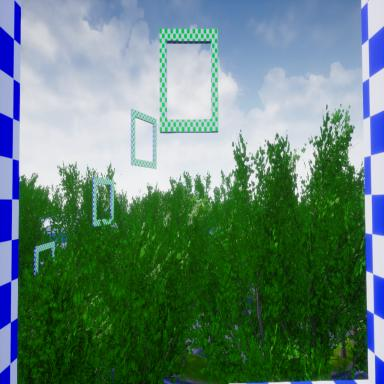gate: (158, 25, 220, 134), (130, 106, 158, 170), (91, 176, 115, 227)
